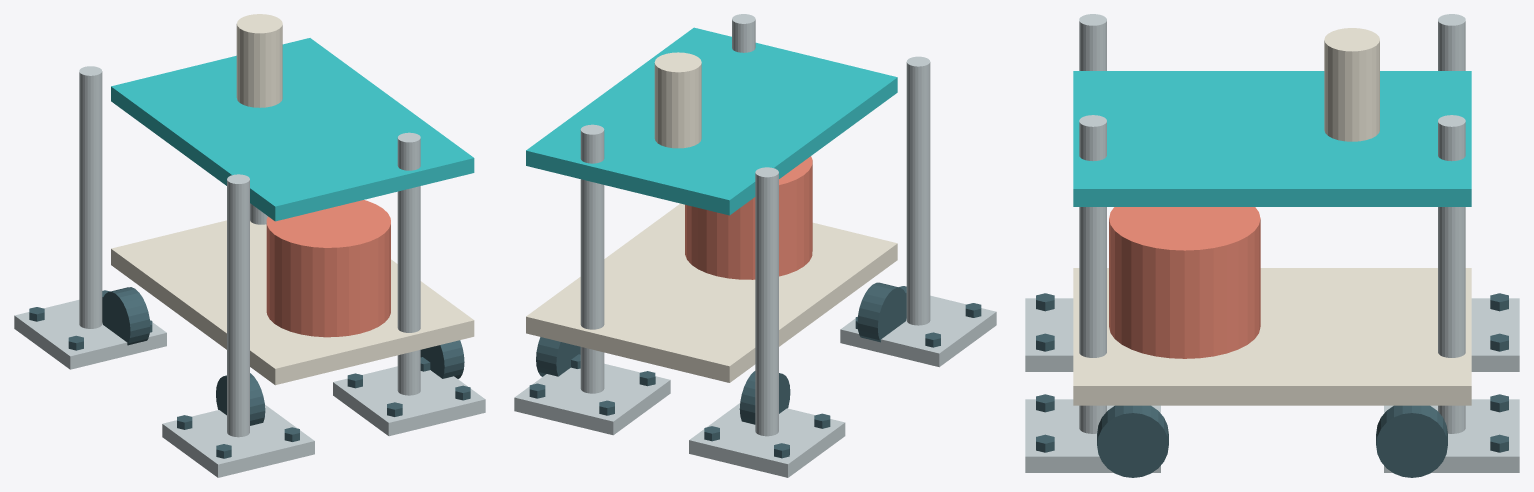
File: waterpark-and-pool-operations-waterpark-and-pool-opera-733c9add__28979.glb
3 renders of one model, left to right at view 1: azimuth 30°, elevation 25°; view 2: azimuth 150°, elevation 25°; view 3: azimuth 270°, elevation 25°, orthographic. The views are drawn at different scales.
Parts seen in each view (by area): view 1: waterpark-and-pool-operations-cleaning-cart; view 2: waterpark-and-pool-operations-cleaning-cart; view 3: waterpark-and-pool-operations-cleaning-cart.
Part boxes in pixels (x1,y1,x2,y2): waterpark-and-pool-operations-cleaning-cart: [14, 14, 485, 477]; waterpark-and-pool-operations-cleaning-cart: [514, 14, 996, 477]; waterpark-and-pool-operations-cleaning-cart: [1025, 14, 1519, 477].
Size of the model in its own units: 0.97 by 1.05 by 1.24.
